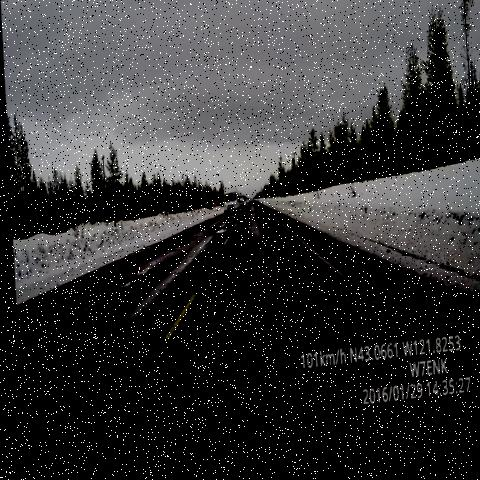pothole: (94, 271, 146, 315), (161, 232, 201, 269), (333, 286, 362, 329), (201, 223, 235, 251), (242, 204, 256, 227)
